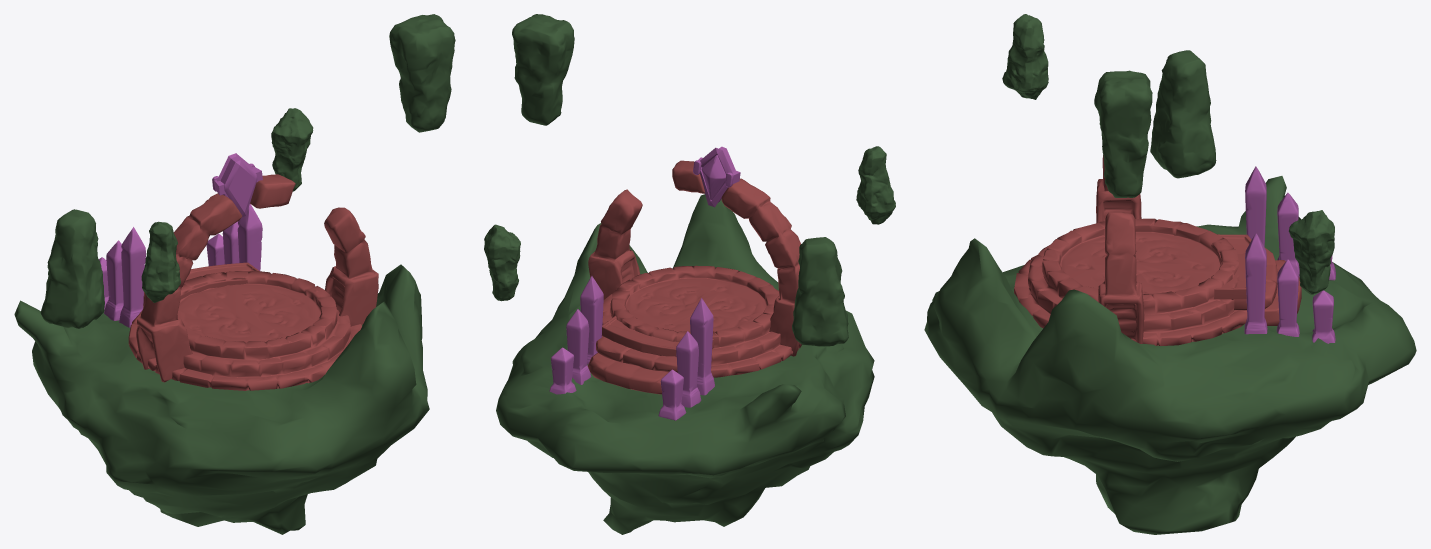
File: Stylized_Portal_low.fbx
3 renders of one model, left to right at view 1: azimuth 30°, elevation 25°; view 2: azimuth 150°, elevation 25°; view 3: azimuth 270°, elevation 25°, orthographic. The views are drawn at different scales.
Visible parts, largest first — view 1: Stylized_Portal_05_low, Stylized_Portal_07_low, Stylized_Portal_15_low, Stylized_Portal_02_low, Stylized_Portal_02_low1, Stylized_Portal_03_low1, Stylized_Portal_03_low, Stylized_Portal_11_low, pCube20_low, Stylized_Portal_11_low1, Stylized_Portal_09_low, Stylized_Portal_06_low (+1 smaller); view 2: Stylized_Portal_05_low, Stylized_Portal_07_low, Stylized_Portal_15_low, Stylized_Portal_02_low, Stylized_Portal_02_low1, Stylized_Portal_03_low1, Stylized_Portal_03_low, Stylized_Portal_04_low, Stylized_Portal_11_low, Stylized_Portal_06_low, Stylized_Portal_08_low, Stylized_Portal_09_low (+6 smaller); view 3: Stylized_Portal_05_low, Stylized_Portal_07_low, Stylized_Portal_02_low1, Stylized_Portal_02_low, Stylized_Portal_15_low, Stylized_Portal_03_low1, Stylized_Portal_03_low, Stylized_Portal_11_low1, Stylized_Portal_09_low1, Stylized_Portal_11_low, Stylized_Portal_06_low, Stylized_Portal_09_low (+2 smaller).
Part boxes in pixels (x1,y1,x2,y2): Stylized_Portal_05_low: (14,264,429,534); Stylized_Portal_07_low: (128,270,361,390); Stylized_Portal_15_low: (136,174,378,382); Stylized_Portal_02_low: (389,14,455,132); Stylized_Portal_02_low1: (40,209,104,328); Stylized_Portal_03_low1: (141,221,180,302); Stylized_Portal_03_low: (271,108,313,191); Stylized_Portal_11_low: (119,227,145,327); pCube20_low: (217,153,257,216); Stylized_Portal_11_low1: (237,204,262,270); Stylized_Portal_09_low: (104,240,123,320); Stylized_Portal_06_low: (144,262,259,299); Stylized_Portal_05_low: (496,194,874,534); Stylized_Portal_07_low: (602,265,801,377); Stylized_Portal_15_low: (588,160,800,356); Stylized_Portal_02_low: (512,14,574,125); Stylized_Portal_02_low1: (792,237,848,346); Stylized_Portal_03_low1: (856,146,895,224); Stylized_Portal_03_low: (484,224,520,301); Stylized_Portal_04_low: (587,353,668,394); Stylized_Portal_11_low: (690,298,714,395); Stylized_Portal_06_low: (601,315,714,356); Stylized_Portal_08_low: (596,336,677,372); Stylized_Portal_09_low: (676,331,701,407); Stylized_Portal_05_low: (924,176,1416,534); Stylized_Portal_07_low: (1014,218,1247,345); Stylized_Portal_02_low1: (1150,50,1216,178); Stylized_Portal_02_low: (1094,70,1152,197); Stylized_Portal_15_low: (1096,155,1144,343); Stylized_Portal_03_low1: (1002,14,1048,99); Stylized_Portal_03_low: (1288,210,1334,294); Stylized_Portal_11_low1: (1244,233,1267,334); Stylized_Portal_09_low1: (1276,259,1299,336); Stylized_Portal_11_low: (1245,166,1266,246); Stylized_Portal_06_low: (1211,234,1251,299); Stylized_Portal_09_low: (1277,192,1299,277).
Size of the model in its own units: 17.12 by 20.93 by 18.01.
